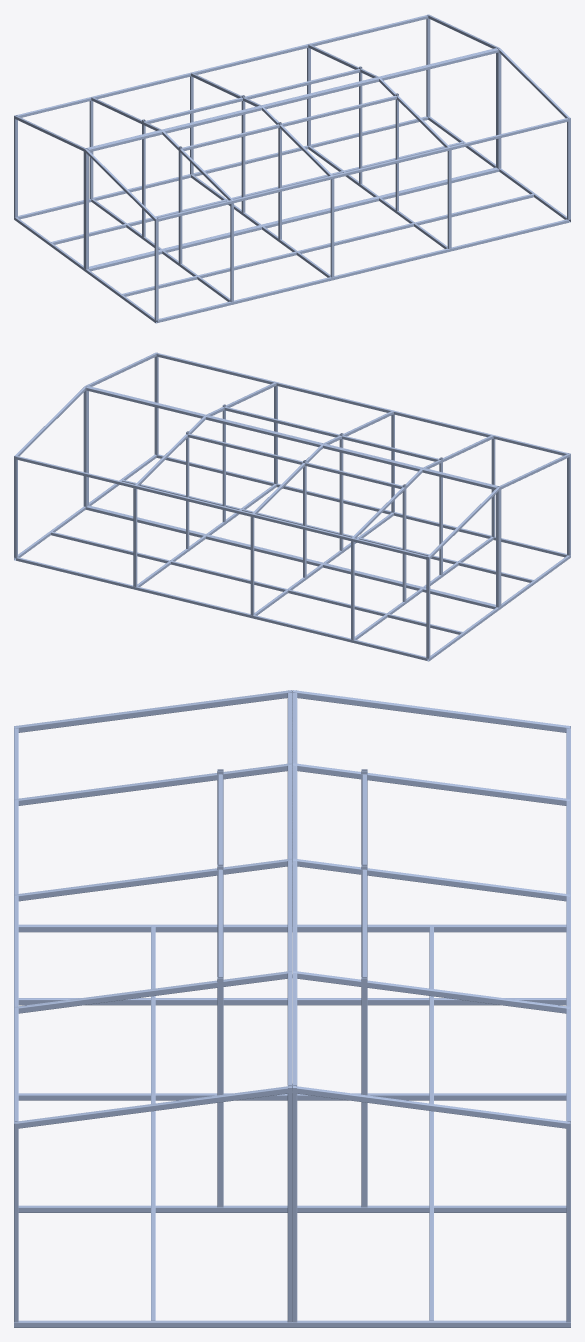
The model's file is Šuniukai_remas.fbx.
The picture shows the model from 3 angles, top to bottom: view 1: azimuth 30°, elevation 25°; view 2: azimuth 150°, elevation 25°; view 3: azimuth 270°, elevation 25°; orthographic projection. The views are drawn at different scales.
Parts seen in each view (by area): view 1: IfcBuildingElementProxy/RHS:RHS80x60x4:2809905, IfcBuildingElementProxy/RHS:RHS80x60x4:2809900, IfcBuildingElementProxy/RHS:RHS80x60x4:2809904, IfcBuildingElementProxy/RHS:RHS80x60x4:2801289, IfcBuildingElementProxy/RHS:RHS80x60x4:2809902, IfcBuildingElementProxy/RHS:RHS80x60x4:2809901, IfcBuildingElementProxy/RHS:RHS80x60x4:2801282, IfcBuildingElementProxy/RHS:RHS80x60x4:2801284, IfcBuildingElementProxy/RHS:RHS80x60x4:2339265, IfcBuildingElementProxy/RHS:RHS80x60x4:2801287, IfcBuildingElementProxy/RHS:RHS80x60x4:2801283, IfcBuildingElementProxy/RHS:RHS80x60x4:2339899 (+24 smaller); view 2: IfcBuildingElementProxy/RHS:RHS80x60x4:2801289, IfcBuildingElementProxy/RHS:RHS80x60x4:2801282, IfcBuildingElementProxy/RHS:RHS80x60x4:2801287, IfcBuildingElementProxy/RHS:RHS80x60x4:2809905, IfcBuildingElementProxy/RHS:RHS80x60x4:2801284, IfcBuildingElementProxy/RHS:RHS80x60x4:2801283, IfcBuildingElementProxy/RHS:RHS80x60x4:2809900, IfcBuildingElementProxy/RHS:RHS80x60x4:2809902, IfcBuildingElementProxy/RHS:RHS80x60x4:2339265, IfcBuildingElementProxy/RHS:RHS80x60x4:2809904, IfcBuildingElementProxy/RHS:RHS80x60x4:2809901, IfcBuildingElementProxy/RHS:RHS80x60x4:2339899 (+24 smaller); view 3: IfcBuildingElementProxy/RHS:RHS80x60x4:2339265, IfcBuildingElementProxy/RHS:RHS80x60x4:2339899, IfcBuildingElementProxy/RHS:RHS80x60x4:2801287, IfcBuildingElementProxy/RHS:RHS80x60x4:2809904, IfcBuildingElementProxy/RHS:RHS80x60x4:2809738, IfcBuildingElementProxy/RHS:RHS80x60x4:2809930, IfcBuildingElementProxy/RHS:RHS80x60x4:2809749, IfcBuildingElementProxy/RHS:RHS80x60x4:2809931, IfcBuildingElementProxy/RHS:RHS80x60x4:2809716, IfcBuildingElementProxy/RHS:RHS80x60x4:2809360, IfcBuildingElementProxy/RHS:RHS80x60x4:2809928, IfcBuildingElementProxy/RHS:RHS80x60x4:2809929 (+20 smaller).
Boxes of the visible parts, box(x1,y1,x2,y2) form: IfcBuildingElementProxy/RHS:RHS80x60x4:2809905: box(158, 118, 568, 221); IfcBuildingElementProxy/RHS:RHS80x60x4:2809900: box(158, 219, 568, 322); IfcBuildingElementProxy/RHS:RHS80x60x4:2809904: box(88, 49, 498, 151); IfcBuildingElementProxy/RHS:RHS80x60x4:2801289: box(17, 15, 427, 117); IfcBuildingElementProxy/RHS:RHS80x60x4:2809902: box(122, 193, 533, 296); IfcBuildingElementProxy/RHS:RHS80x60x4:2809901: box(88, 168, 499, 271); IfcBuildingElementProxy/RHS:RHS80x60x4:2801282: box(17, 116, 428, 219); IfcBuildingElementProxy/RHS:RHS80x60x4:2801284: box(51, 141, 462, 244); IfcBuildingElementProxy/RHS:RHS80x60x4:2339265: box(14, 217, 157, 323); IfcBuildingElementProxy/RHS:RHS80x60x4:2801287: box(87, 48, 496, 148); IfcBuildingElementProxy/RHS:RHS80x60x4:2801283: box(89, 167, 496, 267); IfcBuildingElementProxy/RHS:RHS80x60x4:2339899: box(428, 116, 570, 222); IfcBuildingElementProxy/RHS:RHS80x60x4:2801289: box(16, 456, 426, 559); IfcBuildingElementProxy/RHS:RHS80x60x4:2801282: box(16, 557, 426, 660); IfcBuildingElementProxy/RHS:RHS80x60x4:2801287: box(86, 387, 496, 489); IfcBuildingElementProxy/RHS:RHS80x60x4:2809905: box(157, 353, 567, 455); IfcBuildingElementProxy/RHS:RHS80x60x4:2801284: box(51, 531, 462, 634); IfcBuildingElementProxy/RHS:RHS80x60x4:2801283: box(85, 506, 496, 609); IfcBuildingElementProxy/RHS:RHS80x60x4:2809900: box(156, 454, 567, 557); IfcBuildingElementProxy/RHS:RHS80x60x4:2809902: box(122, 479, 533, 582); IfcBuildingElementProxy/RHS:RHS80x60x4:2339265: box(427, 555, 570, 661); IfcBuildingElementProxy/RHS:RHS80x60x4:2809904: box(88, 386, 497, 486); IfcBuildingElementProxy/RHS:RHS80x60x4:2809901: box(88, 505, 495, 605); IfcBuildingElementProxy/RHS:RHS80x60x4:2339899: box(14, 454, 156, 560); IfcBuildingElementProxy/RHS:RHS80x60x4:2339265: box(18, 924, 566, 932); IfcBuildingElementProxy/RHS:RHS80x60x4:2339899: box(14, 1320, 570, 1327); IfcBuildingElementProxy/RHS:RHS80x60x4:2801287: box(292, 693, 297, 1085); IfcBuildingElementProxy/RHS:RHS80x60x4:2809904: box(287, 693, 292, 1085); IfcBuildingElementProxy/RHS:RHS80x60x4:2809738: box(292, 1086, 570, 1128); IfcBuildingElementProxy/RHS:RHS80x60x4:2809930: box(14, 1086, 292, 1128); IfcBuildingElementProxy/RHS:RHS80x60x4:2809749: box(293, 690, 570, 732); IfcBuildingElementProxy/RHS:RHS80x60x4:2809931: box(14, 690, 291, 732); IfcBuildingElementProxy/RHS:RHS80x60x4:2809716: box(292, 971, 570, 1013); IfcBuildingElementProxy/RHS:RHS80x60x4:2809360: box(292, 763, 570, 805); IfcBuildingElementProxy/RHS:RHS80x60x4:2809928: box(14, 858, 292, 901); IfcBuildingElementProxy/RHS:RHS80x60x4:2809929: box(14, 971, 292, 1013).
Size of the model in its own units: 1176 by 332 by 696.
